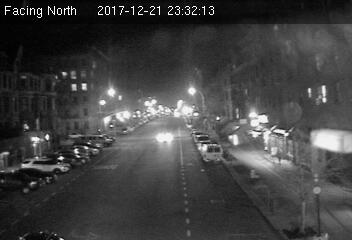car: (155, 131, 174, 144)
truck: (202, 143, 224, 165)
